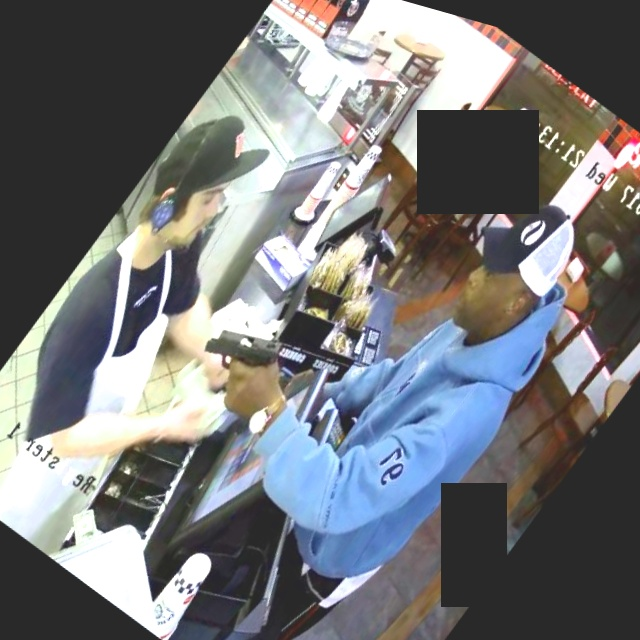gun: (175, 272, 326, 429)
